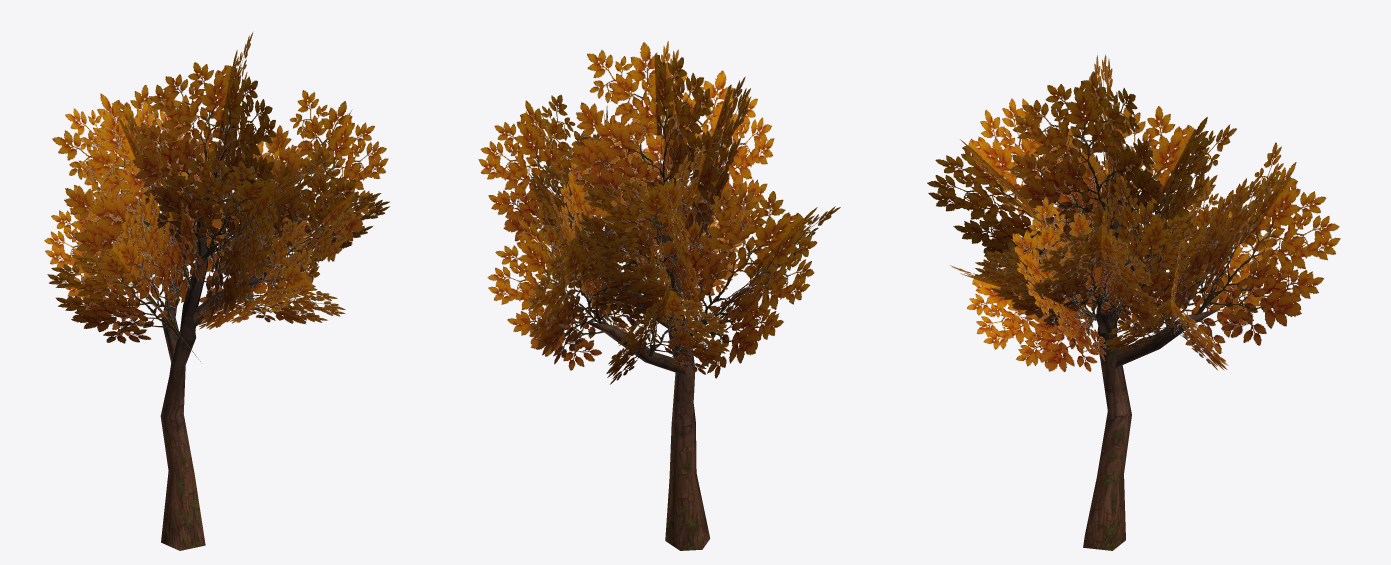
The model's file is Battle04_Tree_01.FBX.
3 views of the same model, side by side, from view 1: azimuth 30°, elevation 25°; view 2: azimuth 150°, elevation 25°; view 3: azimuth 270°, elevation 25° (orthographic). The views are drawn at different scales.
Parts seen in each view (by area): view 1: Battle04_Tree_01_01, Battle04_Tree_01_02; view 2: Battle04_Tree_01_01, Battle04_Tree_01_02; view 3: Battle04_Tree_01_01, Battle04_Tree_01_02.
Boxes of the visible parts, x1,y1,x2,y2 form: Battle04_Tree_01_01: (44,32,389,361); Battle04_Tree_01_02: (160,198,275,550); Battle04_Tree_01_01: (478,41,840,384); Battle04_Tree_01_02: (587,202,710,550); Battle04_Tree_01_01: (927,54,1340,372); Battle04_Tree_01_02: (1083,221,1219,550).
Size of the model in its own units: 19.5 by 25.13 by 21.91.
